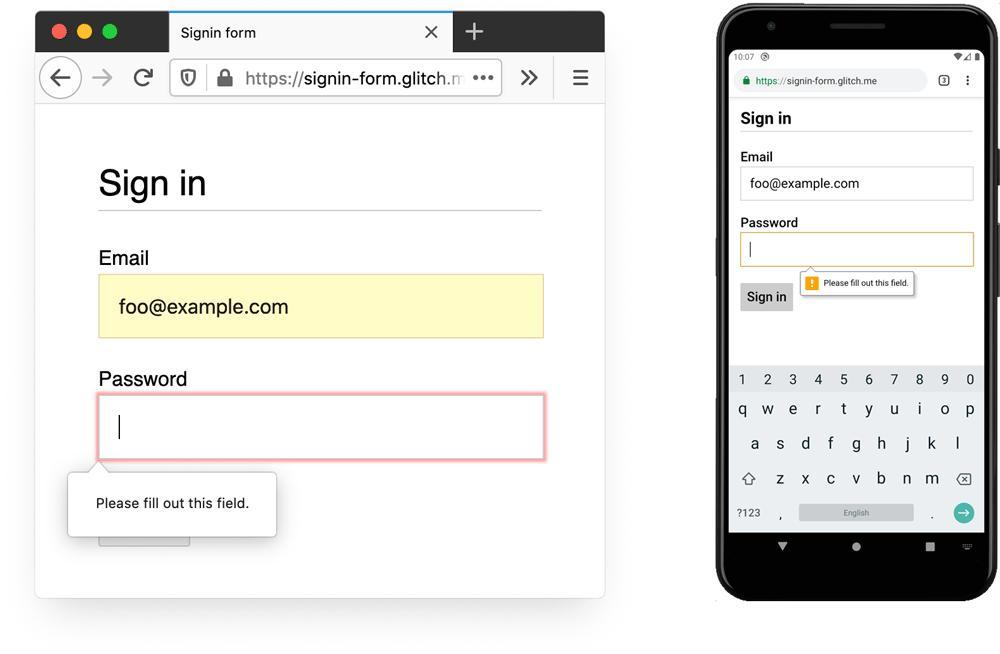button: (742, 283, 793, 313)
icon: (517, 66, 543, 92), (132, 66, 160, 90), (461, 22, 489, 46), (89, 67, 117, 90), (571, 67, 594, 94), (48, 68, 75, 90), (178, 67, 202, 91), (214, 67, 236, 90), (470, 72, 499, 86), (426, 24, 441, 40)
input: (97, 395, 548, 462), (98, 276, 545, 340), (741, 232, 975, 268), (741, 167, 976, 202)
label: (92, 367, 196, 394), (95, 244, 159, 269), (739, 213, 806, 231), (742, 151, 780, 166)
